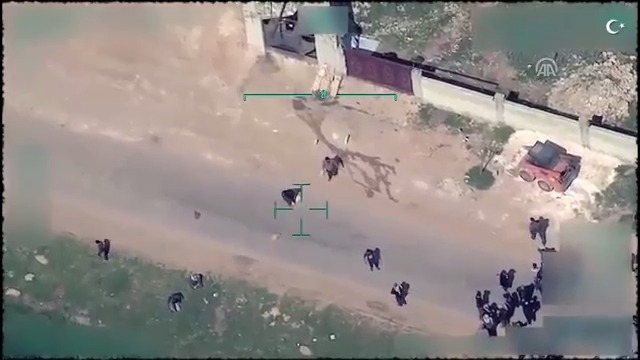insan: (318, 156, 340, 184), (360, 245, 379, 272), (526, 213, 541, 244), (495, 266, 511, 295), (390, 281, 406, 307), (92, 232, 103, 262)
